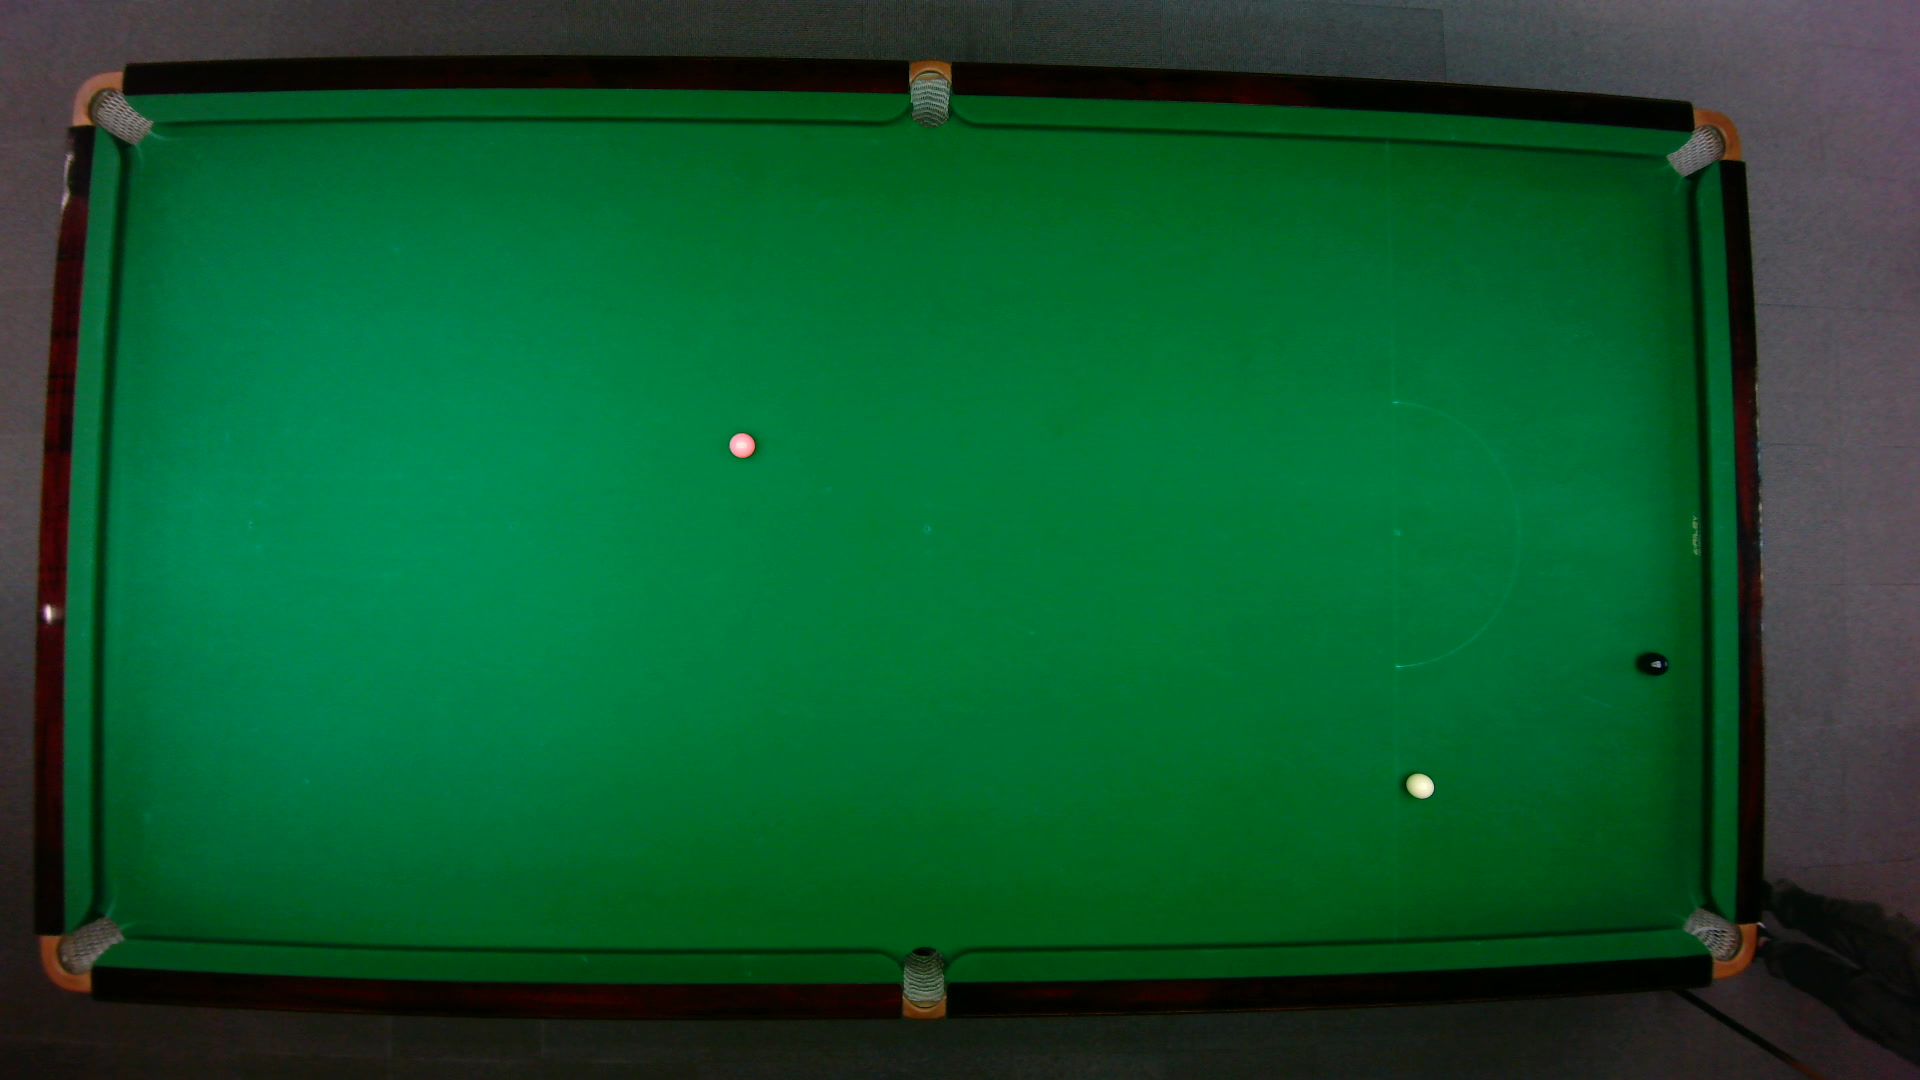bag: (37, 914, 125, 993), (69, 69, 153, 145), (1680, 905, 1759, 978), (1663, 107, 1741, 177), (901, 944, 944, 1021), (909, 57, 949, 128)
black: (1640, 650, 1669, 676)
pink: (727, 430, 756, 459)
white: (1403, 771, 1435, 798)
zone: (1390, 400, 1520, 669)
